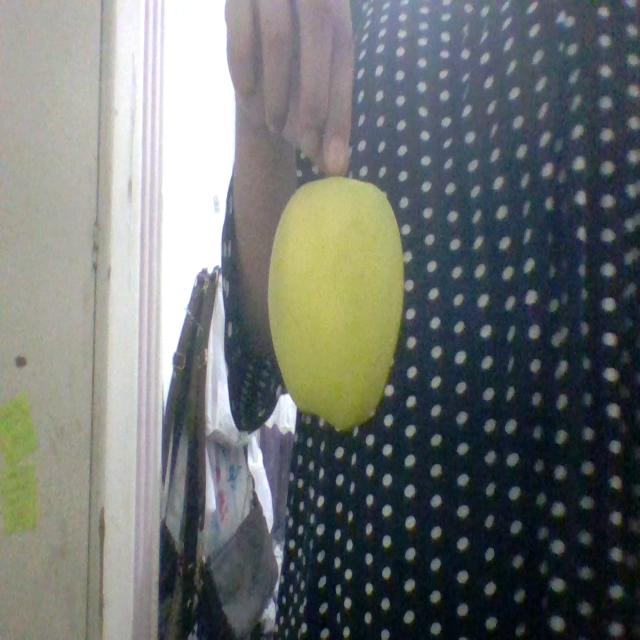50-_ripeness: (266, 175, 404, 426)
